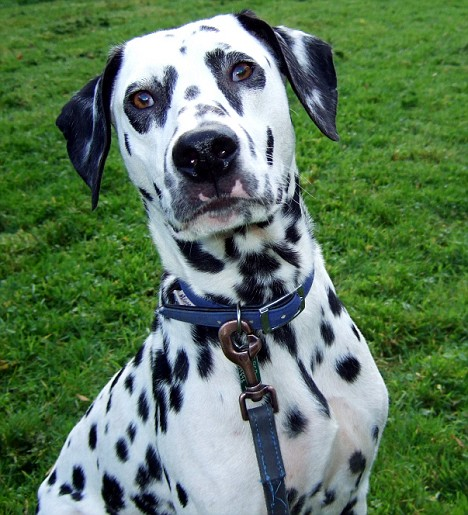dog: (19, 7, 392, 513)
